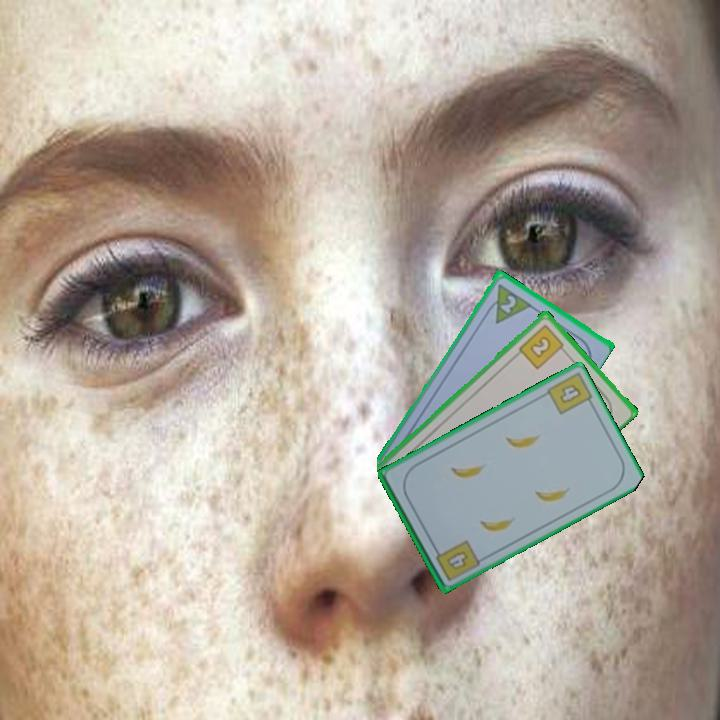2b: (515, 320, 570, 372)
2p: (496, 291, 519, 316)
4b: (430, 536, 482, 584), (556, 380, 585, 406)
